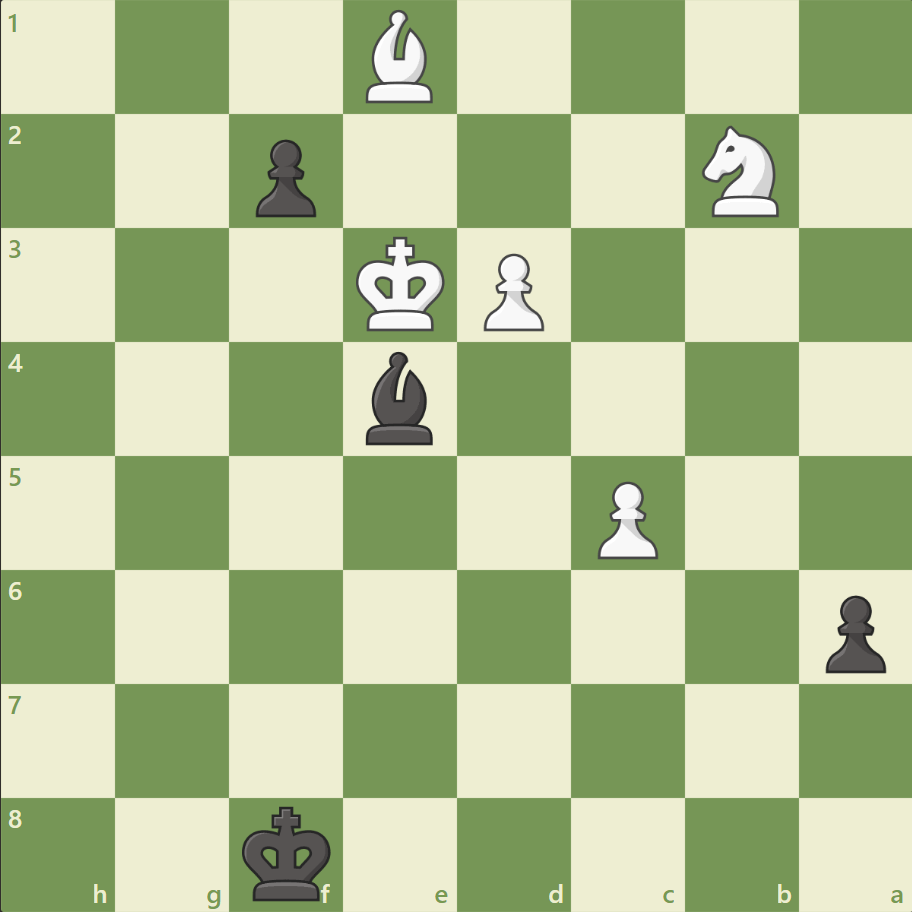B: (358, 6, 442, 109)
K: (351, 231, 451, 339)
N: (692, 121, 789, 223)
P: (474, 246, 549, 337), (588, 473, 662, 564)
b: (358, 347, 442, 449)
k: (238, 798, 338, 906)
p: (247, 132, 322, 223), (815, 586, 889, 677)
